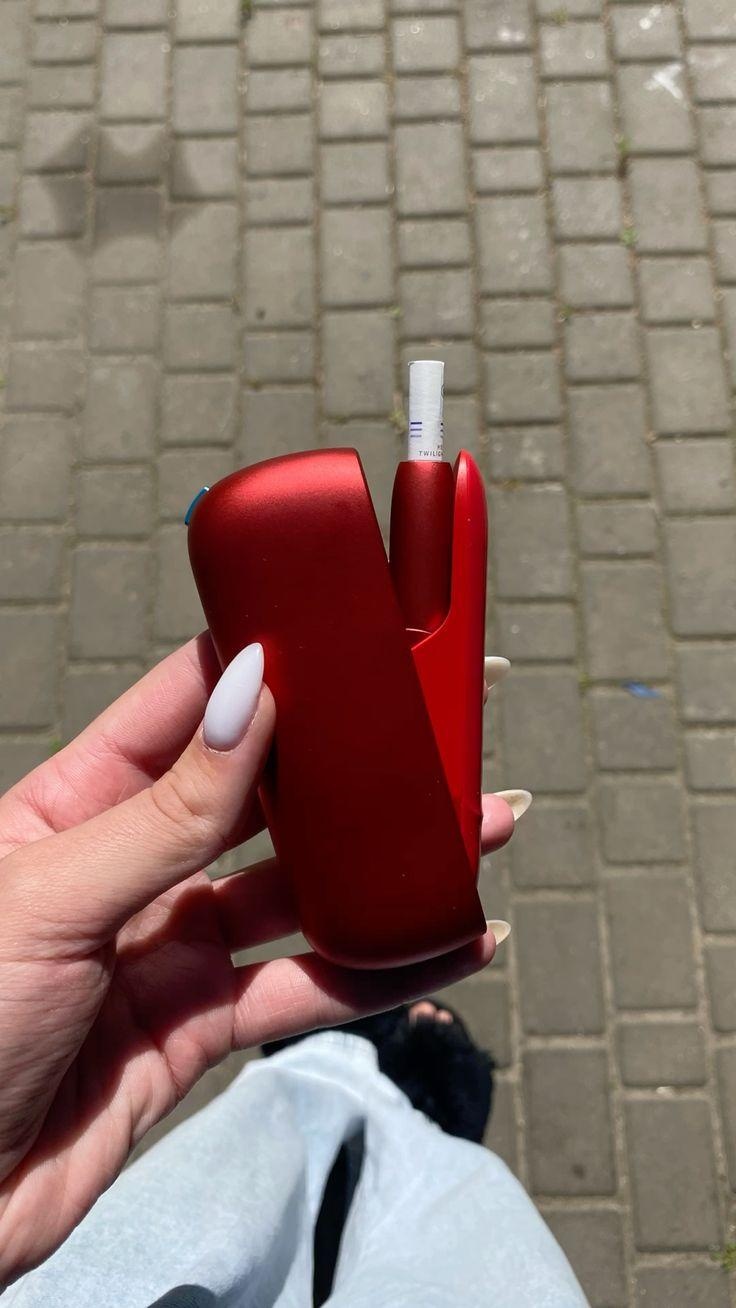iqos: (390, 361, 455, 641)
